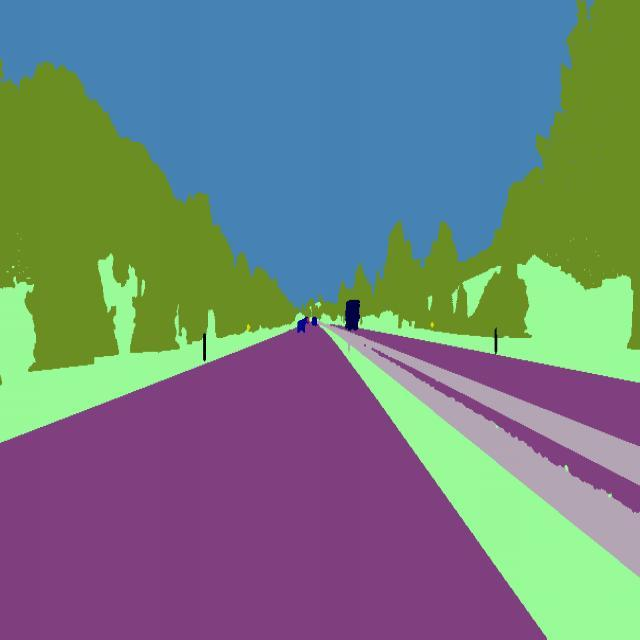safe: (342, 294, 362, 331), (294, 319, 308, 336), (311, 312, 320, 330)
